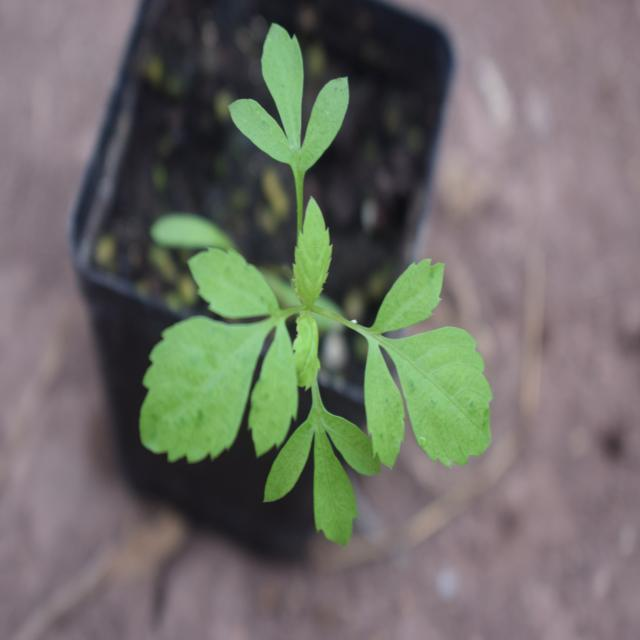Bidens pilosa: (117, 40, 493, 522)
